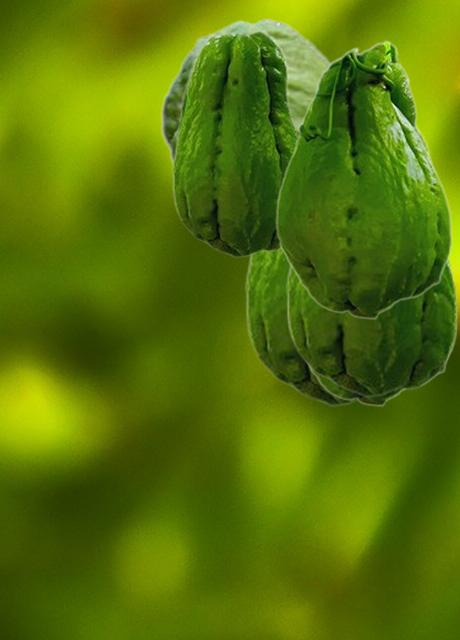sayote: (275, 40, 452, 319), (286, 122, 457, 397), (172, 29, 297, 257), (160, 17, 331, 171), (245, 250, 358, 406), (288, 334, 456, 406)
